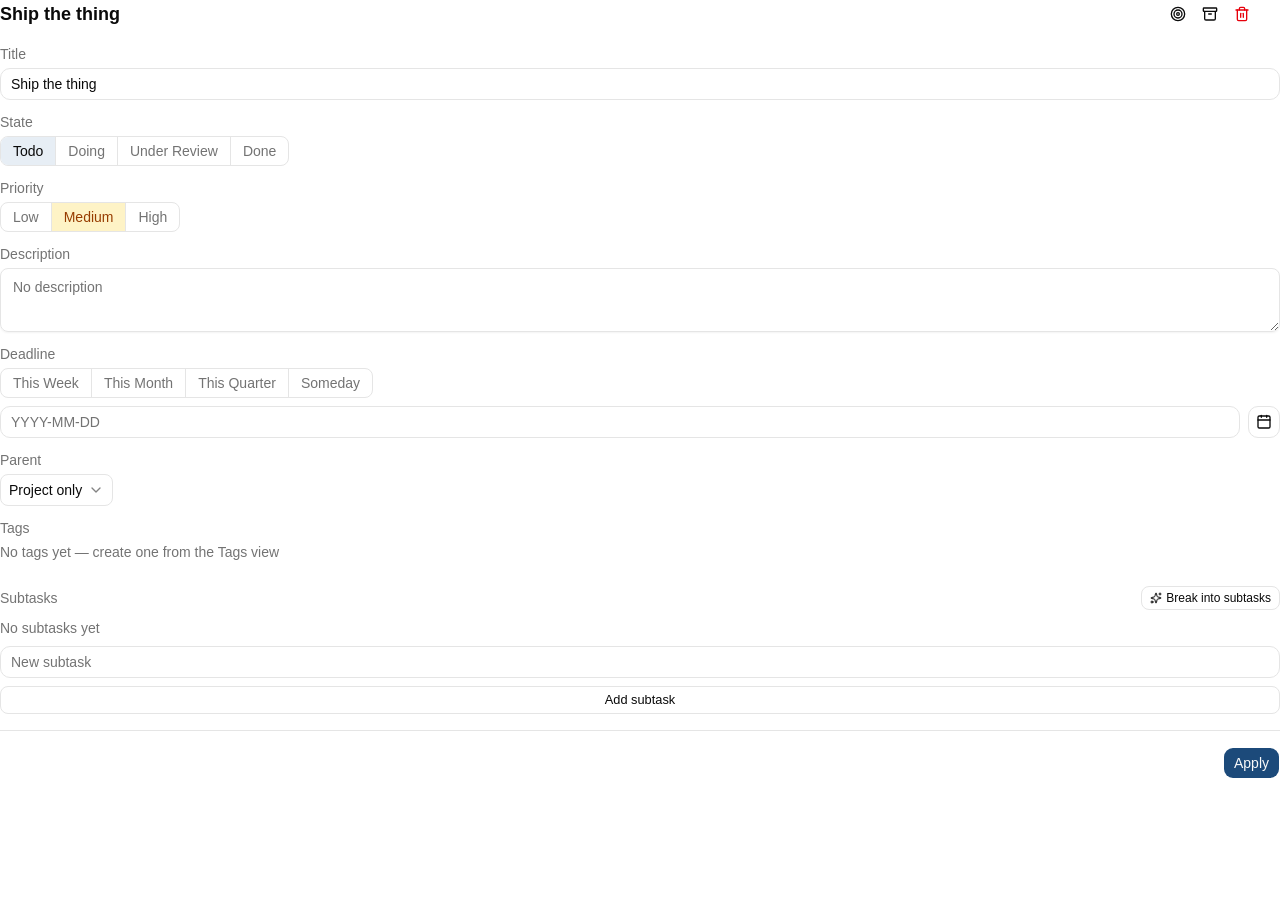
Scenario: TaskDetailPanel — archive and delete › shows an error when archiving fails
Click the 1st button named "Archive": (1210, 14) top-left (1196, 0), bottom-right (1224, 28)
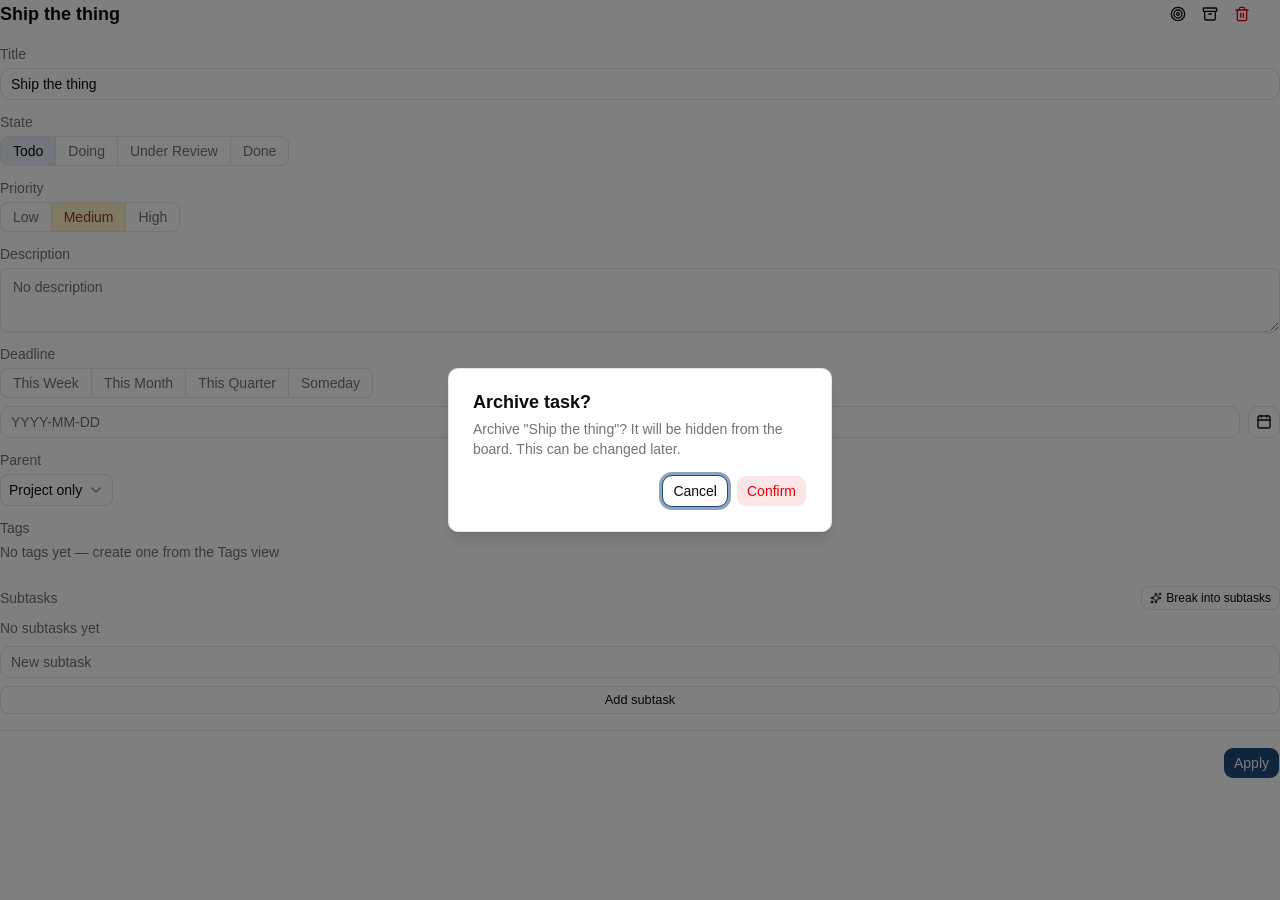
Click the button "Confirm": (772, 491) top-left (736, 475), bottom-right (807, 507)
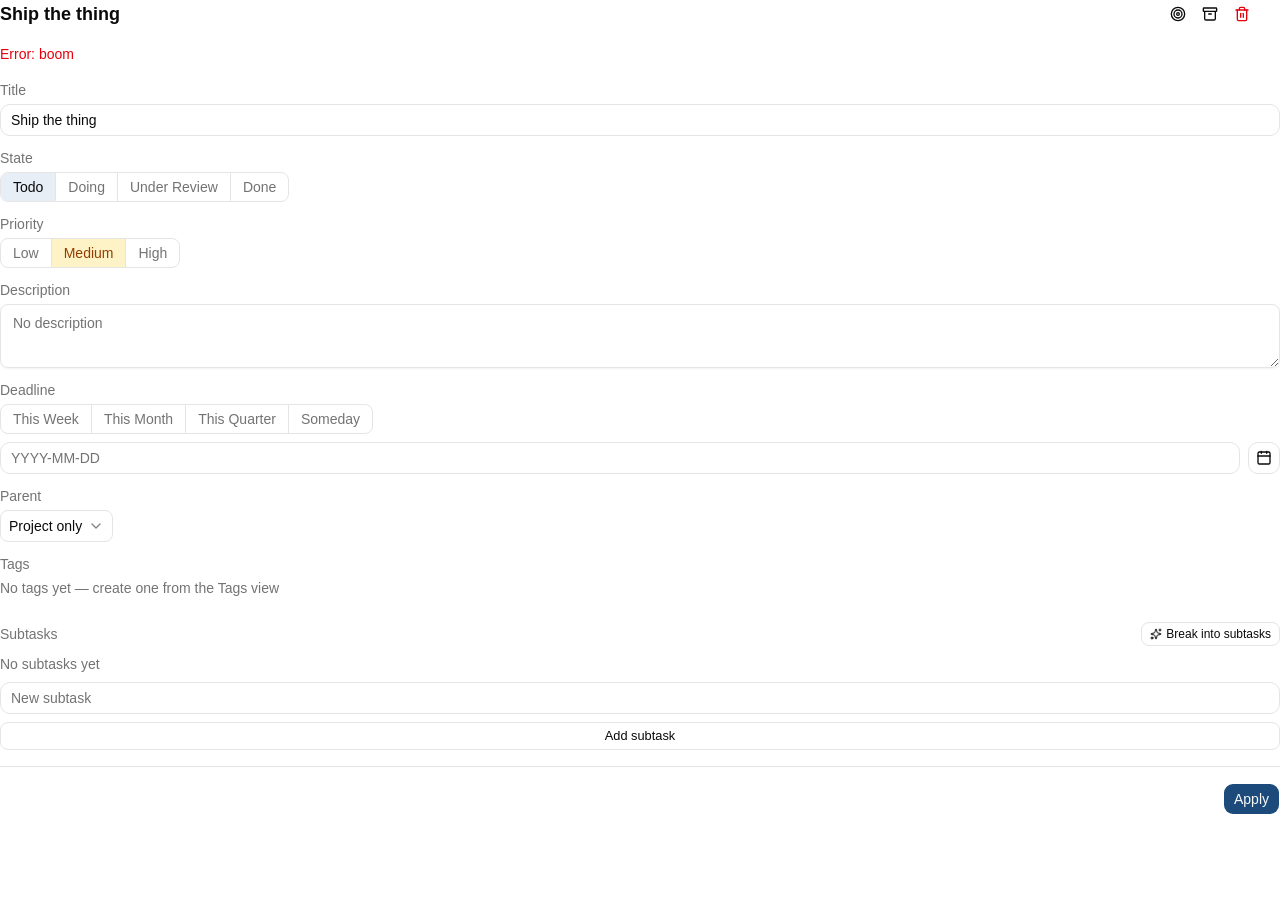
Expected: the text "Error: boom" is shown, top-left (0, 46), bottom-right (74, 62)
